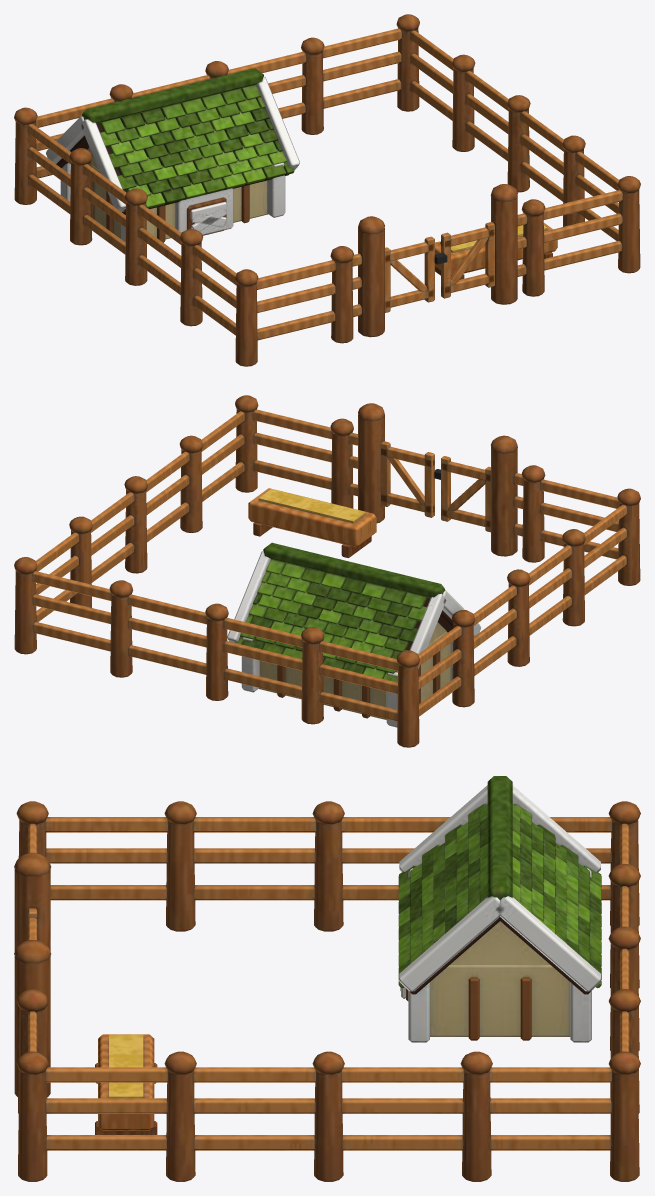
File: quail_coop.glb
3 renders of one model, top to bottom at view 1: azimuth 30°, elevation 25°; view 2: azimuth 150°, elevation 25°; view 3: azimuth 270°, elevation 25°, orthographic. The views are drawn at different scales.
Parts seen in each view (by area): view 1: quail_coop; view 2: quail_coop; view 3: quail_coop.
Boxes of the visible parts, x1,y1,x2,y2 form: quail_coop: (14, 14, 640, 366); quail_coop: (14, 395, 640, 747); quail_coop: (14, 776, 640, 1181).
Size of the model in its own units: 2 by 0.575 by 2.01.
1 material, 1 textured.
